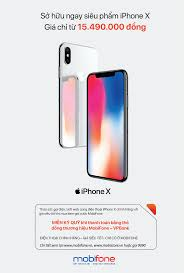iphone: (83, 66, 130, 182)
iphone10: (83, 67, 130, 183)
